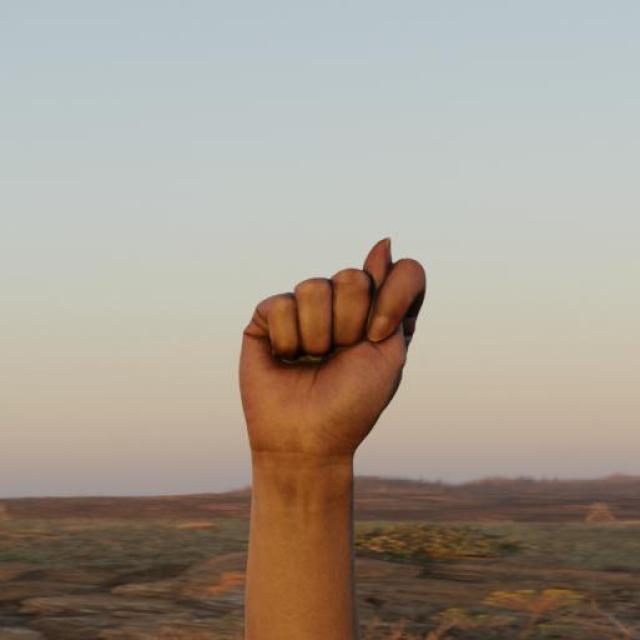T: (232, 232, 437, 463)
